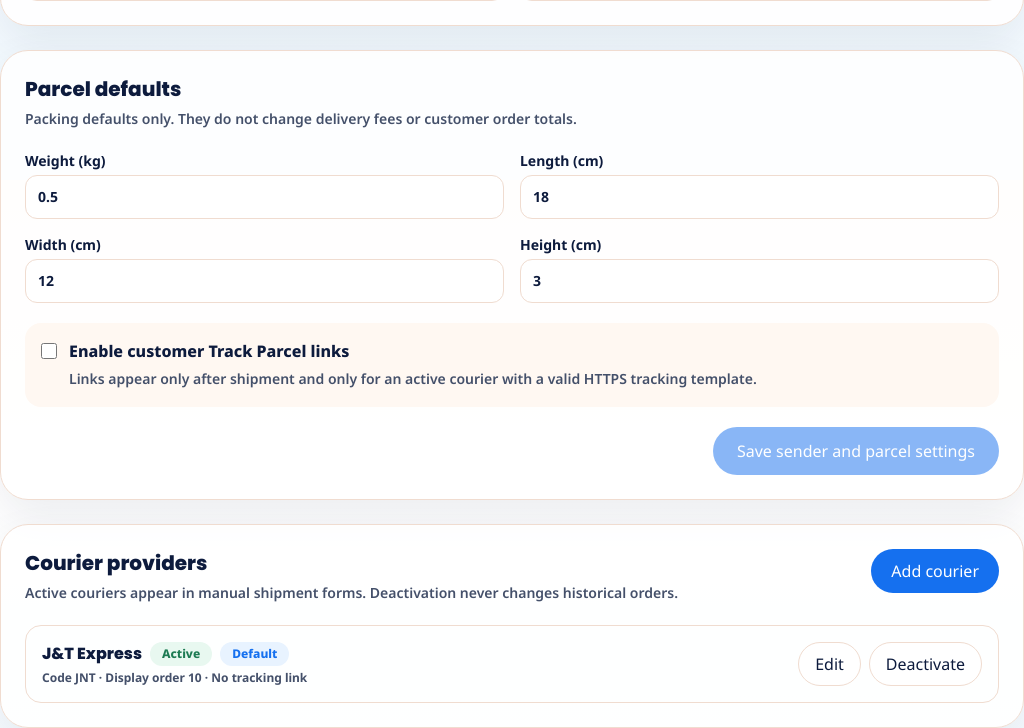
Test: AdminShippingFulfilmentManager › deactivates without deleting and can change the default courier
The width and height of the screenshot is (1024, 728).
(page scrolled)
Click the button "Deactivate": coordinates (925, 664) [869, 642, 982, 686]
(page scrolled)
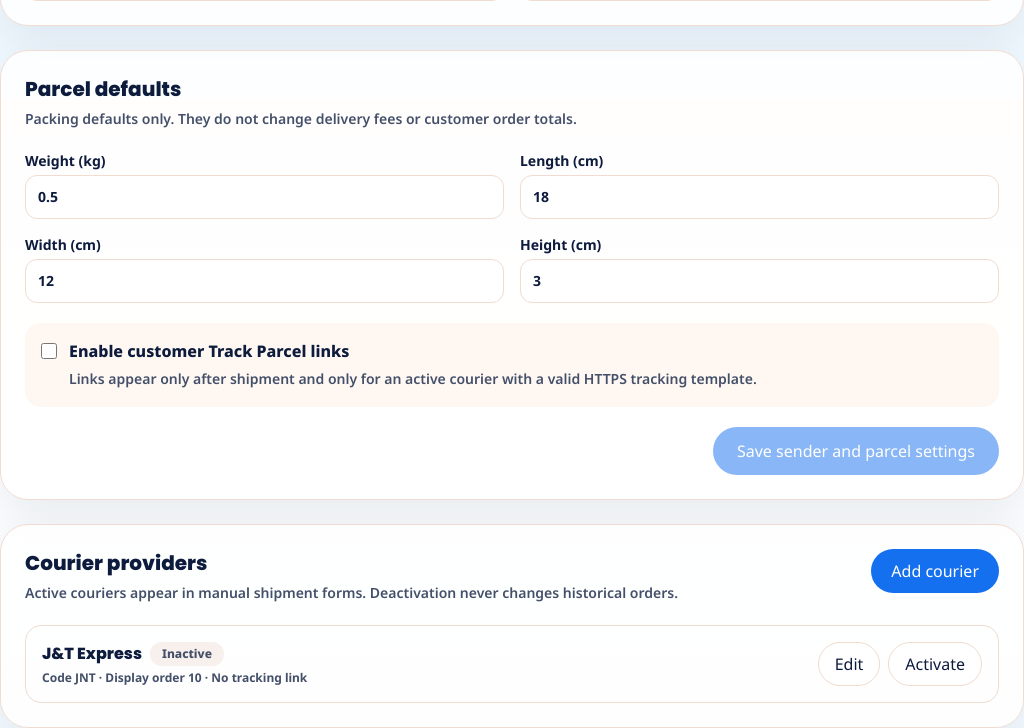
Result: the text "Inactive" is shown at [150, 642, 224, 666]
